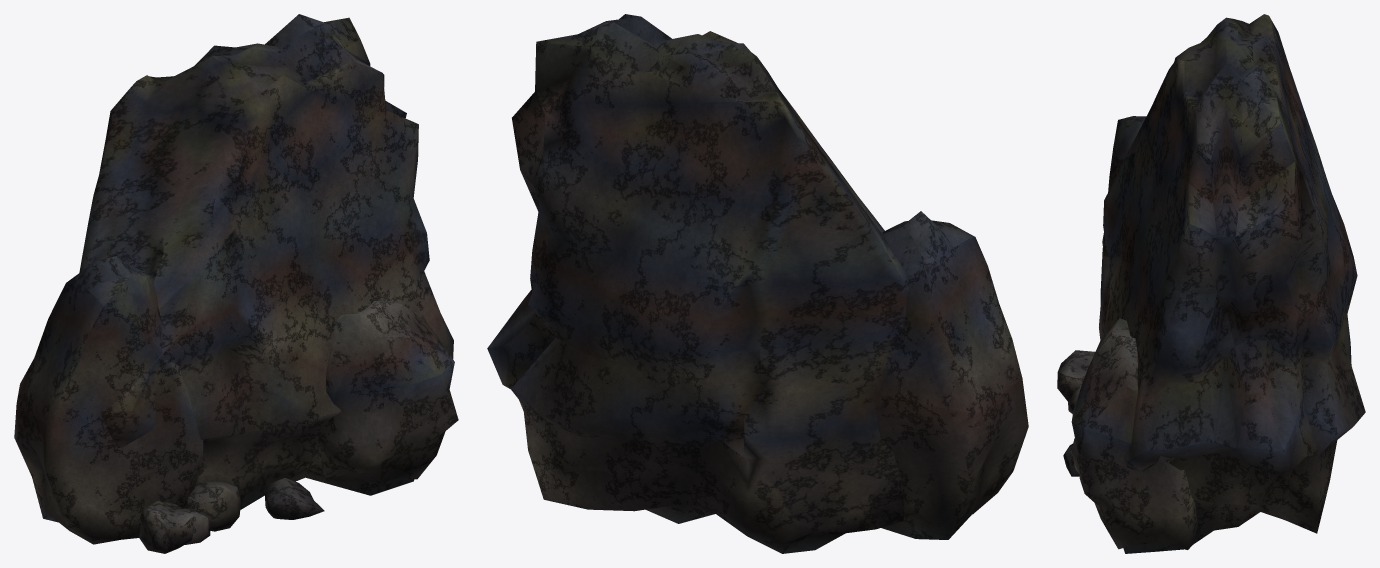
File: cliff_a.glb
The picture shows the model from 3 angles, left to right: view 1: azimuth 30°, elevation 25°; view 2: azimuth 150°, elevation 25°; view 3: azimuth 270°, elevation 25°; orthographic projection. The views are drawn at different scales.
Visible parts, largest first — view 1: cliff_a; view 2: cliff_a; view 3: cliff_a.
Boxes of the visible parts, x1,y1,x2,y2 form: cliff_a: (14,14,458,553); cliff_a: (487,14,1028,553); cliff_a: (1057,14,1365,553).
Size of the model in its own units: 9.68 by 9.59 by 5.8.
Materials: 1 (1 with a texture image).
